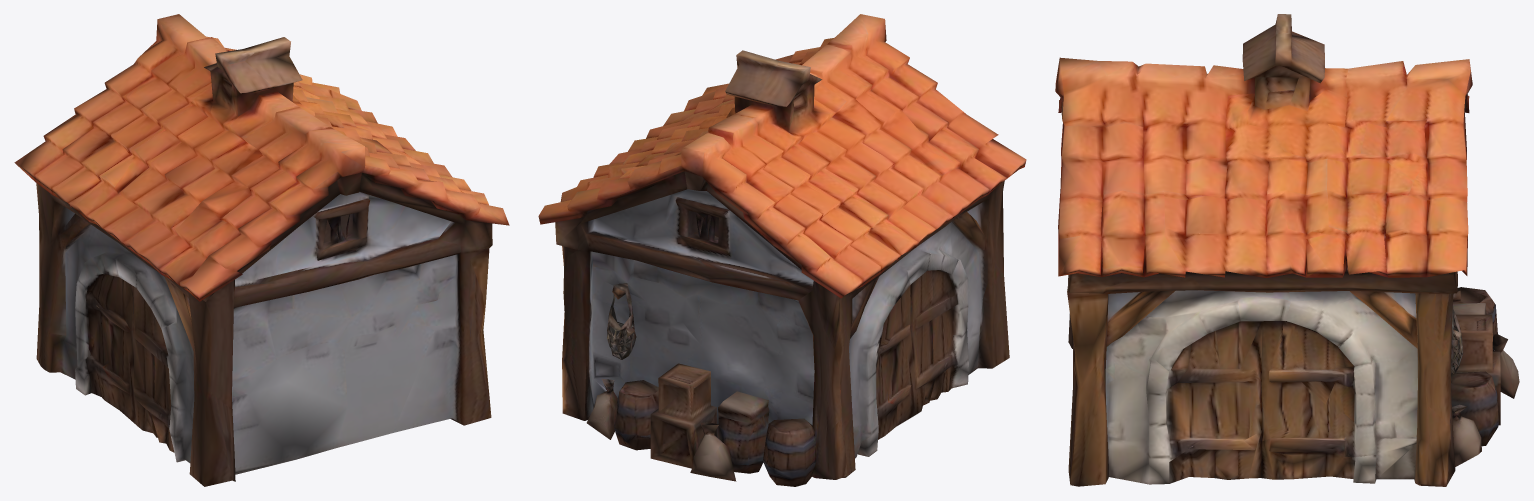
Rendered from storehouse_l2.glb.
3 renders of one model, left to right at view 1: azimuth 30°, elevation 25°; view 2: azimuth 150°, elevation 25°; view 3: azimuth 270°, elevation 25°, orthographic. The views are drawn at different scales.
Parts seen in each view (by area): view 1: tripo_node_44165c0b-c698-444f-b3fe-088ca30295ef; view 2: tripo_node_44165c0b-c698-444f-b3fe-088ca30295ef; view 3: tripo_node_44165c0b-c698-444f-b3fe-088ca30295ef.
Boxes of the visible parts, x1,y1,x2,y2 form: tripo_node_44165c0b-c698-444f-b3fe-088ca30295ef: (14,14,509,486); tripo_node_44165c0b-c698-444f-b3fe-088ca30295ef: (538,14,1026,486); tripo_node_44165c0b-c698-444f-b3fe-088ca30295ef: (1055,14,1519,486).
Bounding box in the file's own units: 0.8669 × 0.8811 × 0.981.
Materials: 1 (1 with a texture image).
